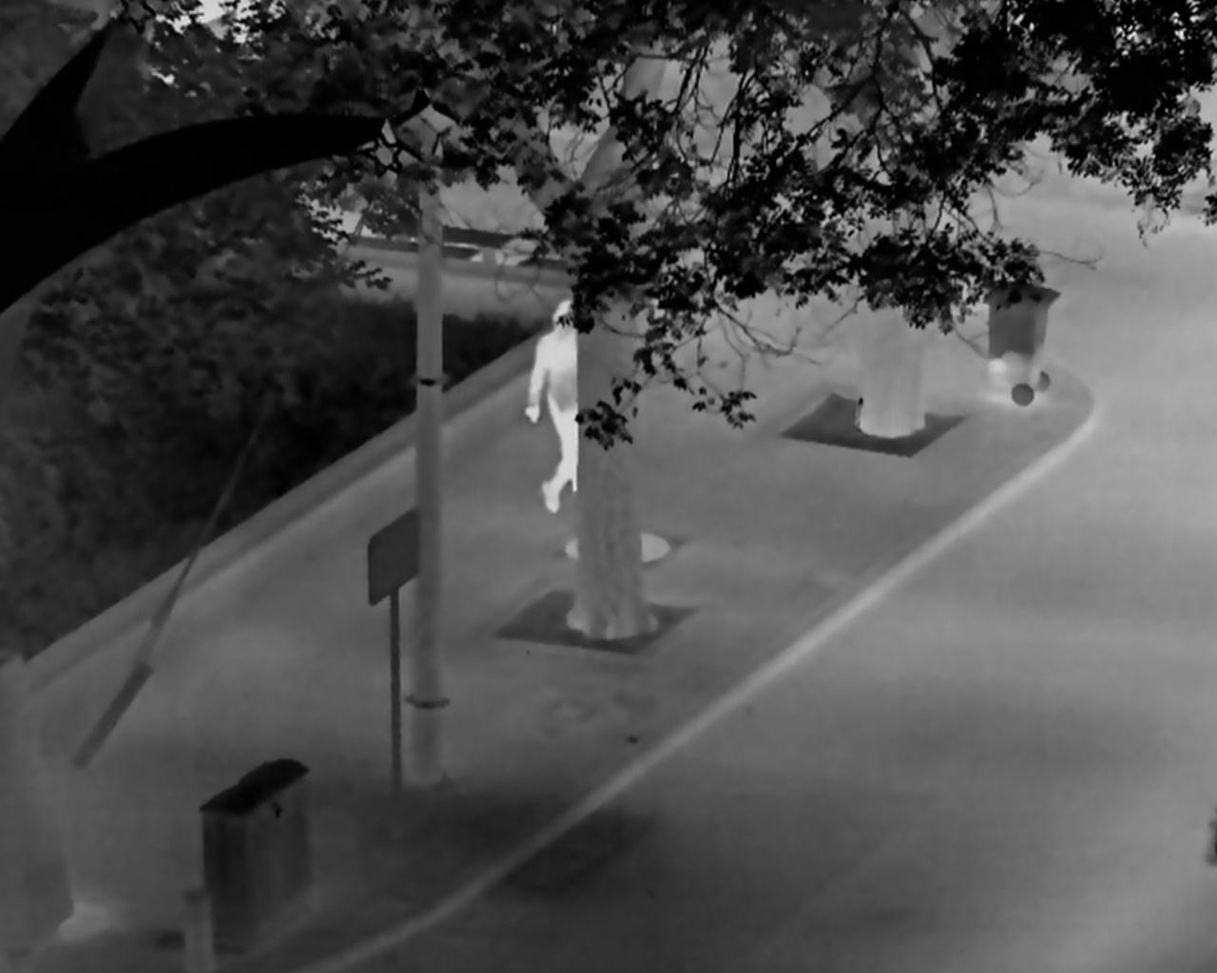person: (524, 298, 578, 514)
